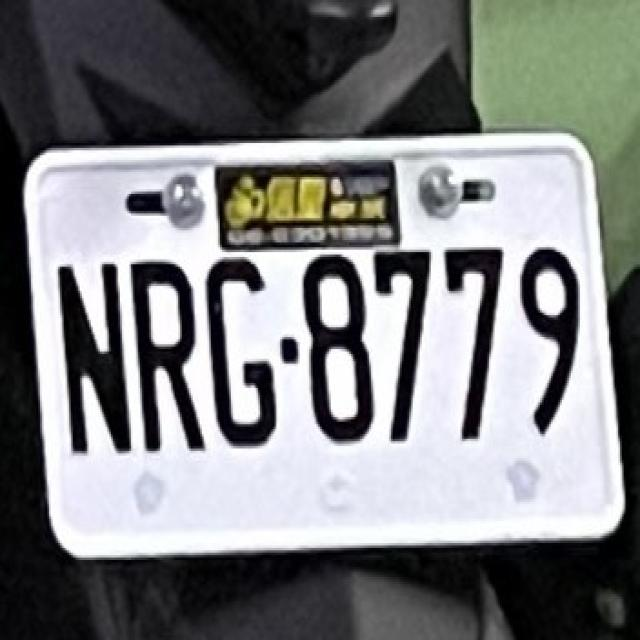license-plate: (26, 136, 616, 553)
